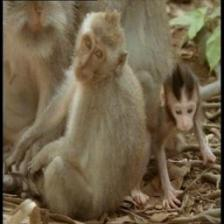monkey: (72, 10, 134, 98), (160, 62, 206, 141), (8, 2, 63, 55)
